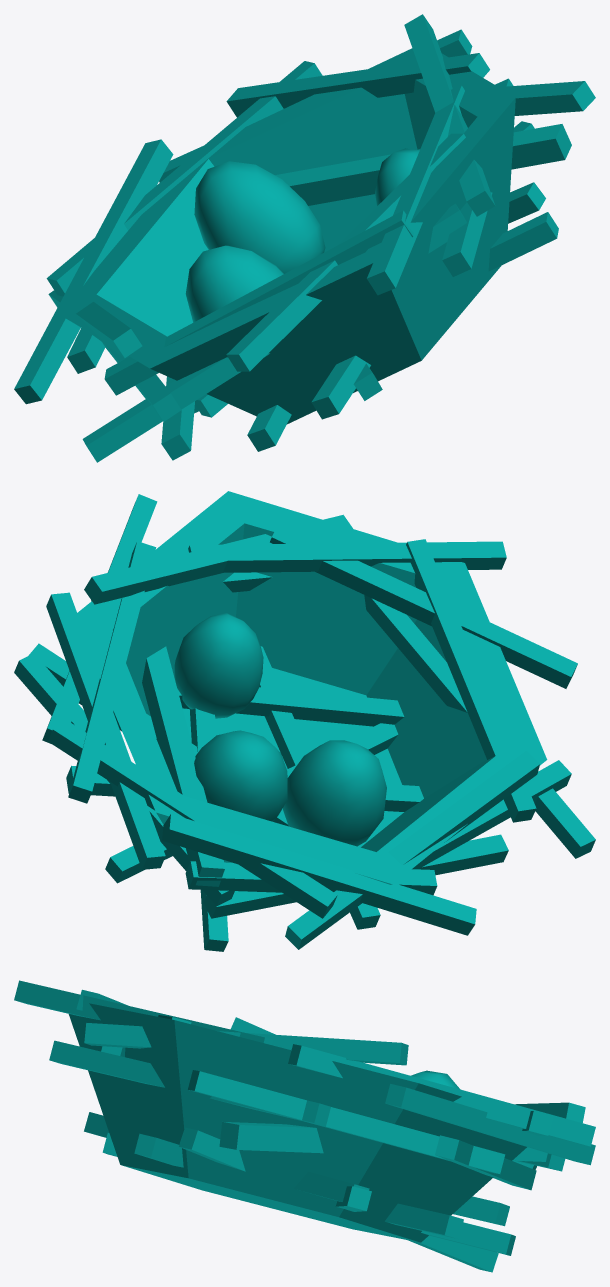
File: _ANM_BirdNest.fbx
3 views of the same model, one above another, from view 1: azimuth 30°, elevation 25°; view 2: azimuth 150°, elevation 25°; view 3: azimuth 270°, elevation 25° (orthographic). The views are drawn at different scales.
Parts seen in each view (by area): view 1: NestBase, NestStraw, Egg1, Egg, Egg2; view 2: NestStraw, NestBase, Egg, Egg2, Egg1; view 3: NestBase, NestStraw, Egg1.
Boxes of the visible parts, x1,y1,x2,y2 form: NestBase: (58, 48, 515, 424); NestStraw: (14, 14, 595, 462); Egg1: (194, 161, 325, 273); Egg: (185, 245, 283, 322); Egg2: (375, 148, 419, 205); NestStraw: (14, 494, 595, 951); NestBase: (74, 491, 547, 884); Egg: (283, 740, 386, 846); Egg2: (174, 613, 263, 718); Egg1: (194, 730, 287, 821); NestBase: (68, 1003, 526, 1242); NestStraw: (14, 980, 595, 1272); Egg1: (411, 1070, 460, 1089).
Size of the model in its own units: 6.1 by 3.73 by 6.11.
